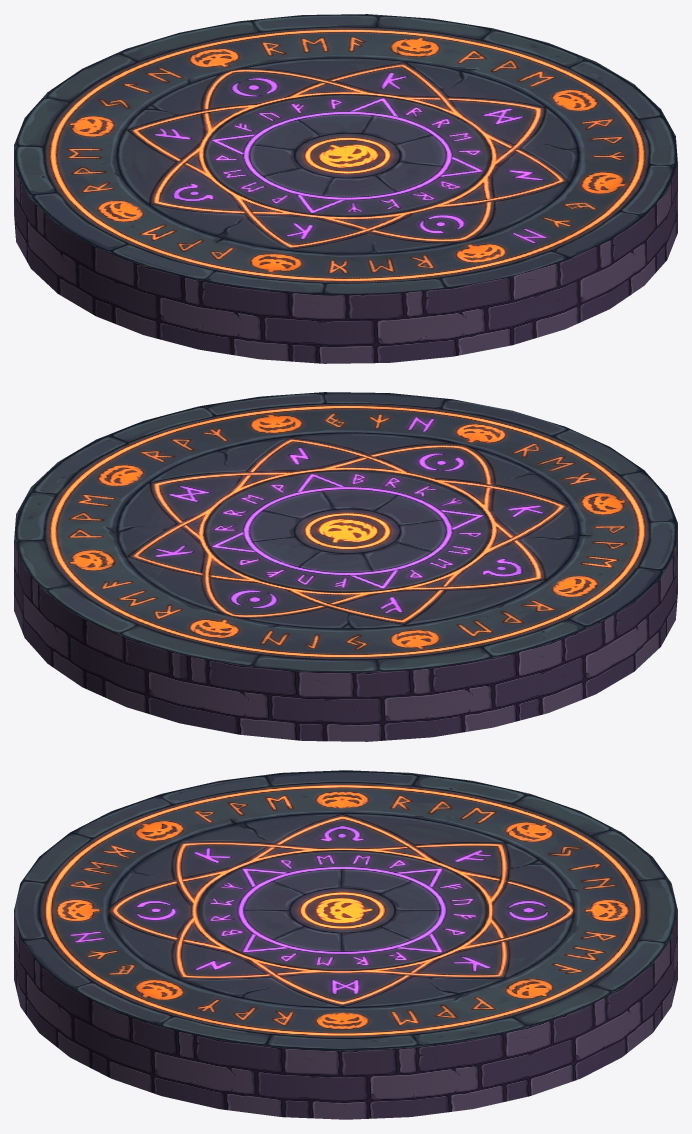
Rendered from ArenaRing.glb.
3 views of the same model, one above another, from view 1: azimuth 30°, elevation 25°; view 2: azimuth 150°, elevation 25°; view 3: azimuth 270°, elevation 25° (orthographic).
Parts seen in each view (by area): view 1: ArenaRing; view 2: ArenaRing; view 3: ArenaRing.
Boxes of the visible parts, bbox=[...] form: ArenaRing: bbox=[14, 14, 677, 363]; ArenaRing: bbox=[14, 392, 677, 741]; ArenaRing: bbox=[14, 770, 677, 1119].
Size of what is drawn, in the model's own units: 44 by 5.04 by 44.
2 materials, 2 textured.
